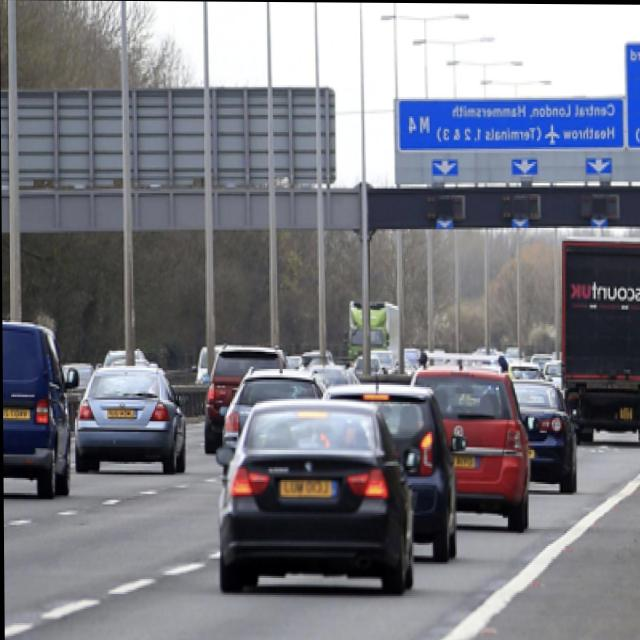licence: (275, 478, 336, 497), (105, 402, 140, 419)
